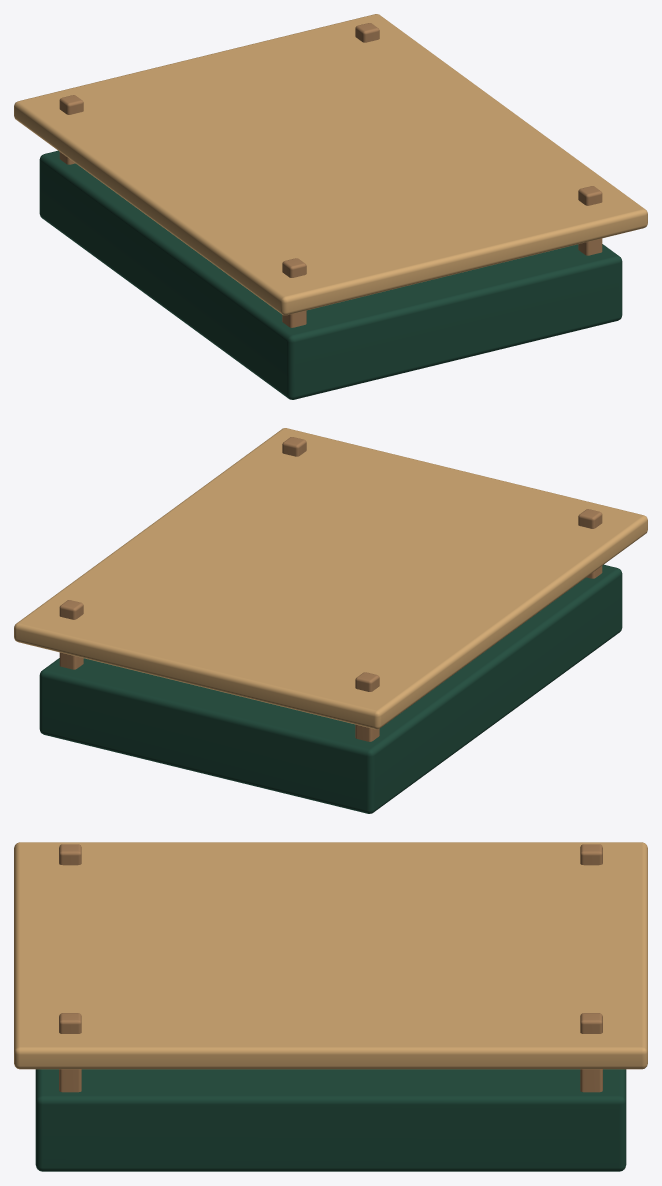
Rendered from SM_EG_ProduceIsland_57c4019de2.fbx.
3 renders of one model, top to bottom at view 1: azimuth 30°, elevation 25°; view 2: azimuth 150°, elevation 25°; view 3: azimuth 270°, elevation 25°, orthographic. The views are drawn at different scales.
Parts seen in each view (by area): view 1: SM_EG_ProduceIsland_57c4019de2; view 2: SM_EG_ProduceIsland_57c4019de2; view 3: SM_EG_ProduceIsland_57c4019de2.
Part boxes in pixels (x1,y1,x2,y2): SM_EG_ProduceIsland_57c4019de2: (14,14,647,399); SM_EG_ProduceIsland_57c4019de2: (14,428,647,813); SM_EG_ProduceIsland_57c4019de2: (14,842,647,1171).
Size of the model in its own units: 285 by 365 by 93.
